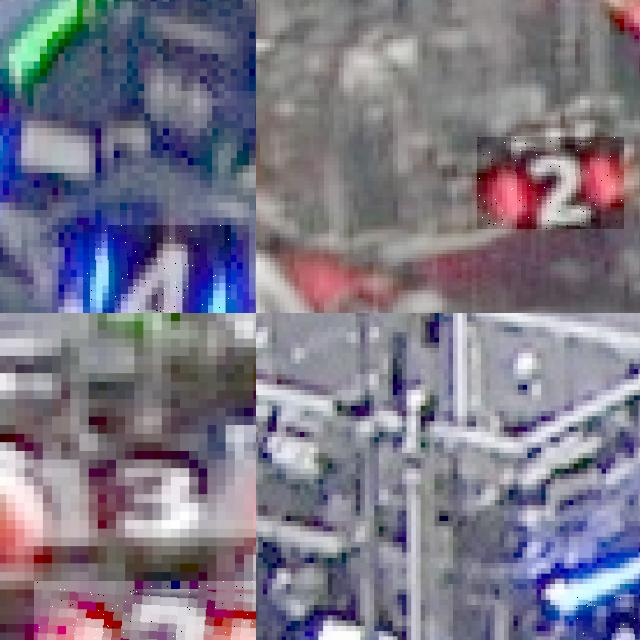B2: (576, 597, 640, 640)
B4: (83, 225, 230, 313)
R2: (477, 137, 624, 229)
R3: (33, 580, 256, 640)
